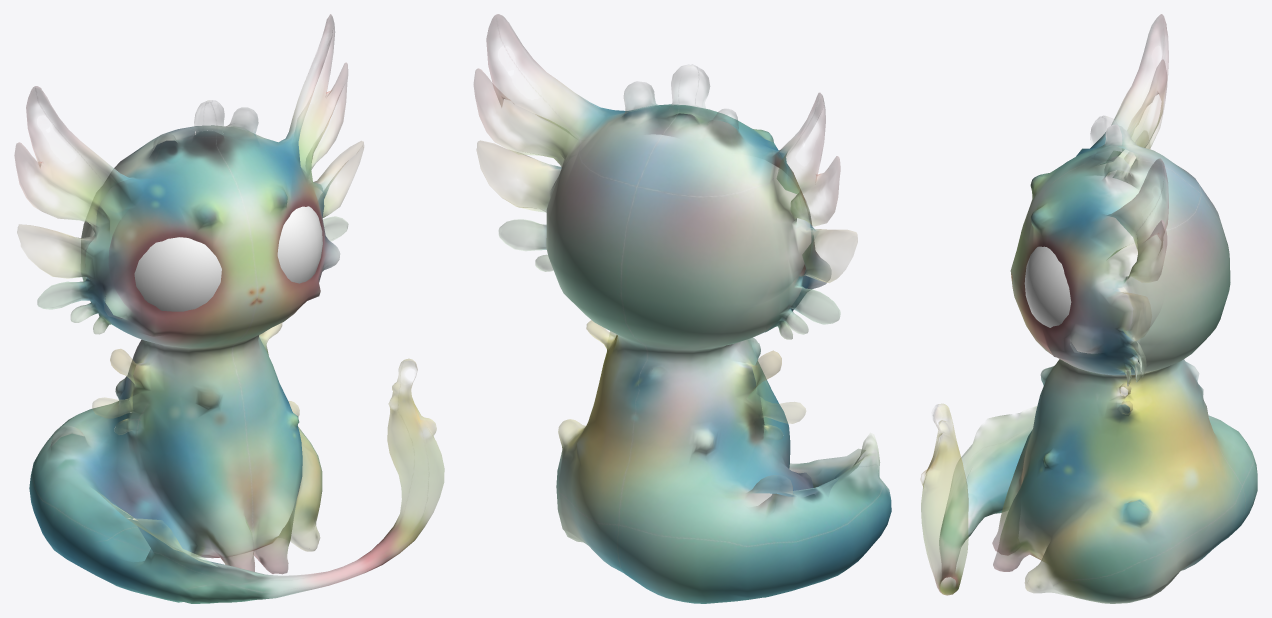
The model's file is yousei.glb.
The picture shows the model from 3 angles, left to right: view 1: azimuth 30°, elevation 25°; view 2: azimuth 150°, elevation 25°; view 3: azimuth 270°, elevation 25°; orthographic projection. The views are drawn at different scales.
Parts seen in each view (by area): view 1: Body, Right Eye, Left Eye; view 2: Body, Right Eye; view 3: Body, Left Eye, Right Eye.
Part boxes in pixels (x1,y1,x2,y2): Body: (14, 14, 444, 603); Right Eye: (109, 213, 221, 311); Left Eye: (277, 206, 322, 283); Body: (473, 14, 891, 603); Right Eye: (763, 162, 811, 301); Body: (920, 14, 1257, 603); Left Eye: (1024, 215, 1158, 353); Right Eye: (1088, 175, 1164, 251).
Size of the model in its own units: 0.6814 by 0.886 by 0.5694.
Materials: 3 (1 with a texture image).
